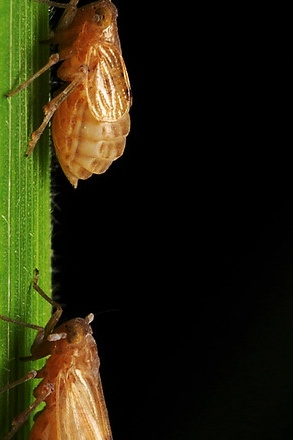Brown_hopper: (10, 1, 142, 198), (6, 267, 124, 440)
